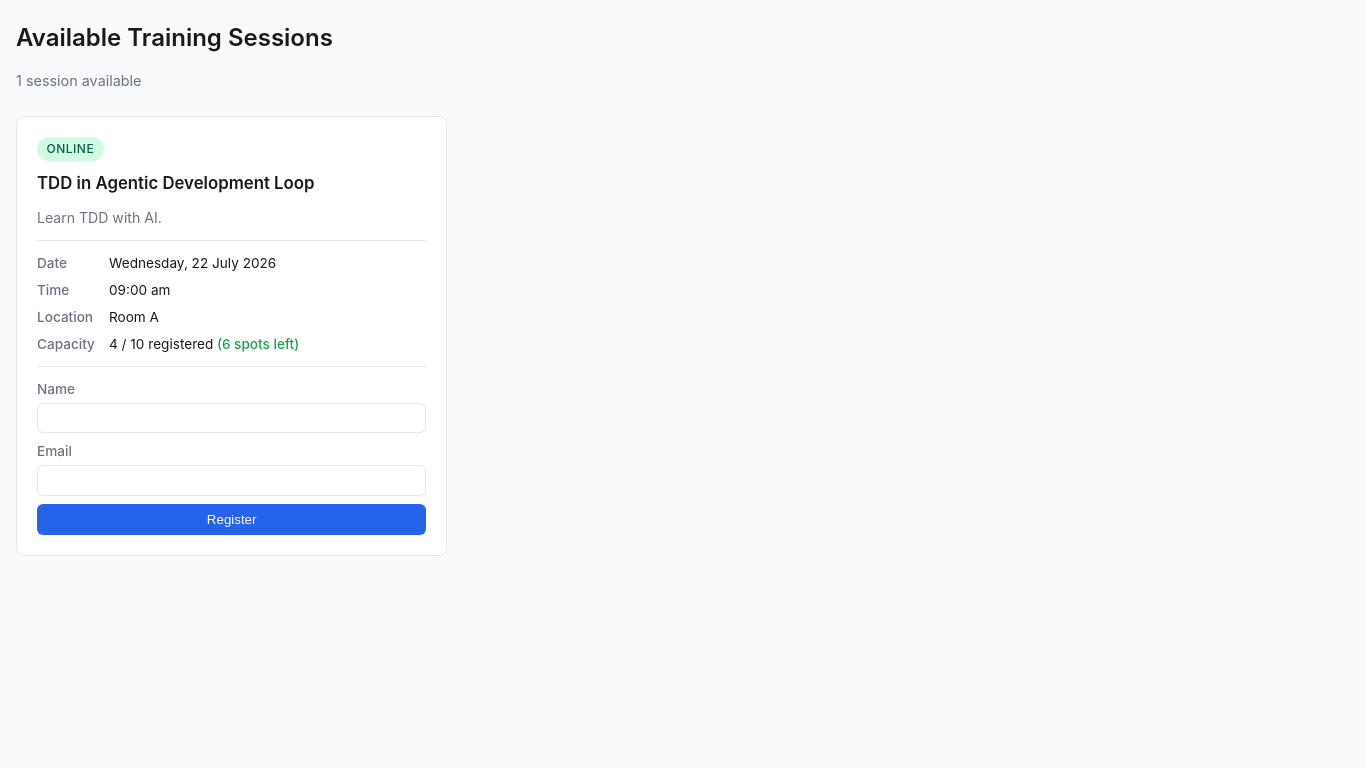
TrainingSessionsPage registration › posts the registration and updates the registered count from the response
The width and height of the screenshot is (1366, 768).
Check: the link "TDD in Agentic Development Loop" is shown, box left=37, top=173, right=314, bottom=193
Type "Ada Lovelace" into the field labelled "Name".
click(232, 418); type("Ada Lovelace")  # box left=37, top=402, right=426, bottom=433
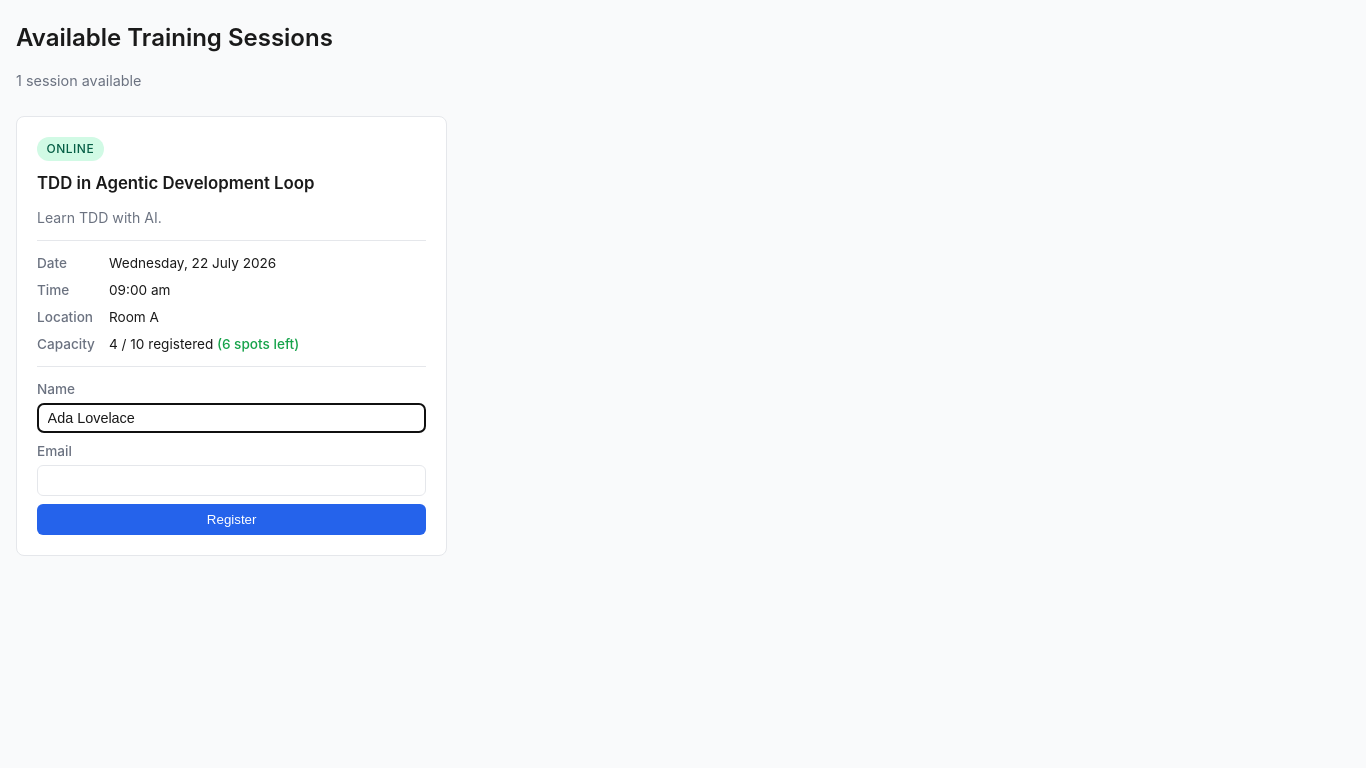
Type "ada@example.com" into the field labelled "Email".
click(232, 480); type("ada@example.com")  # box left=37, top=465, right=426, bottom=496
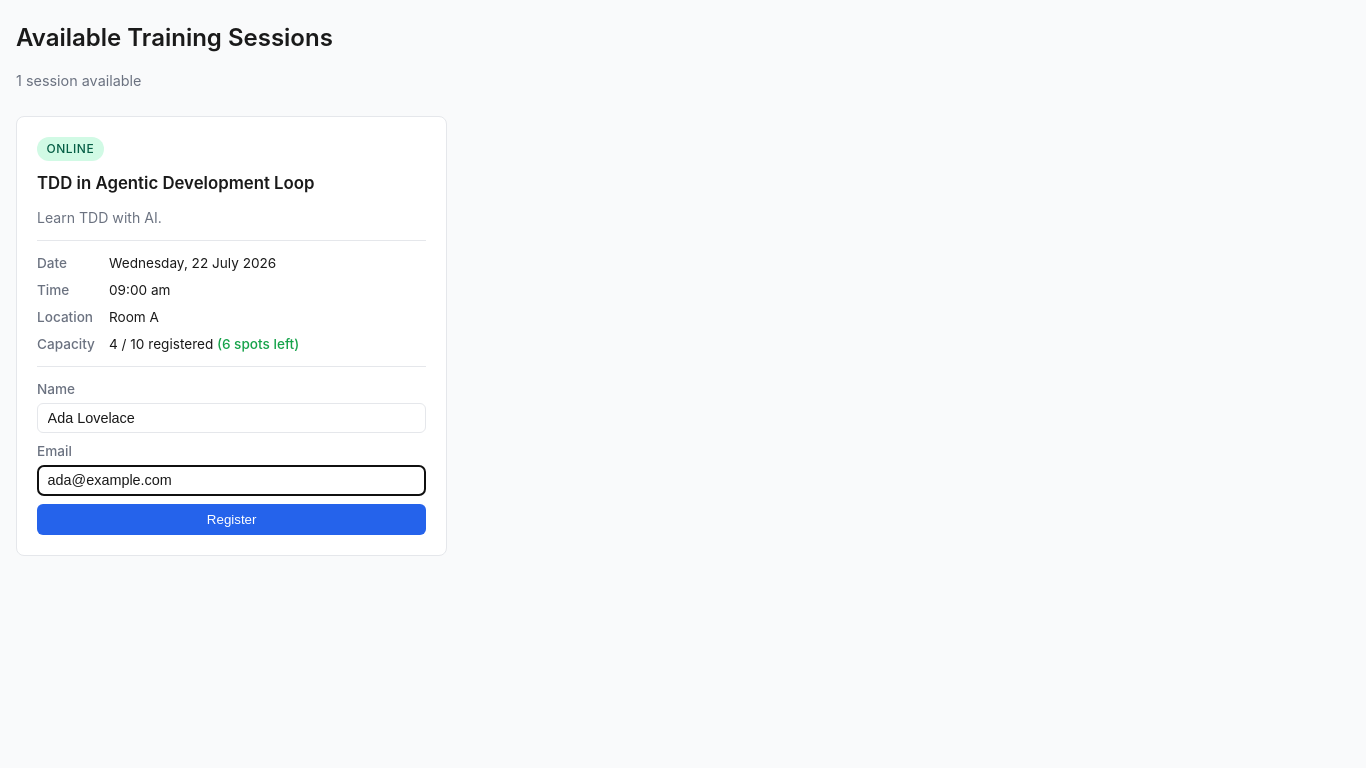
Click the button "Register".
click(232, 519)  # box left=37, top=504, right=426, bottom=535
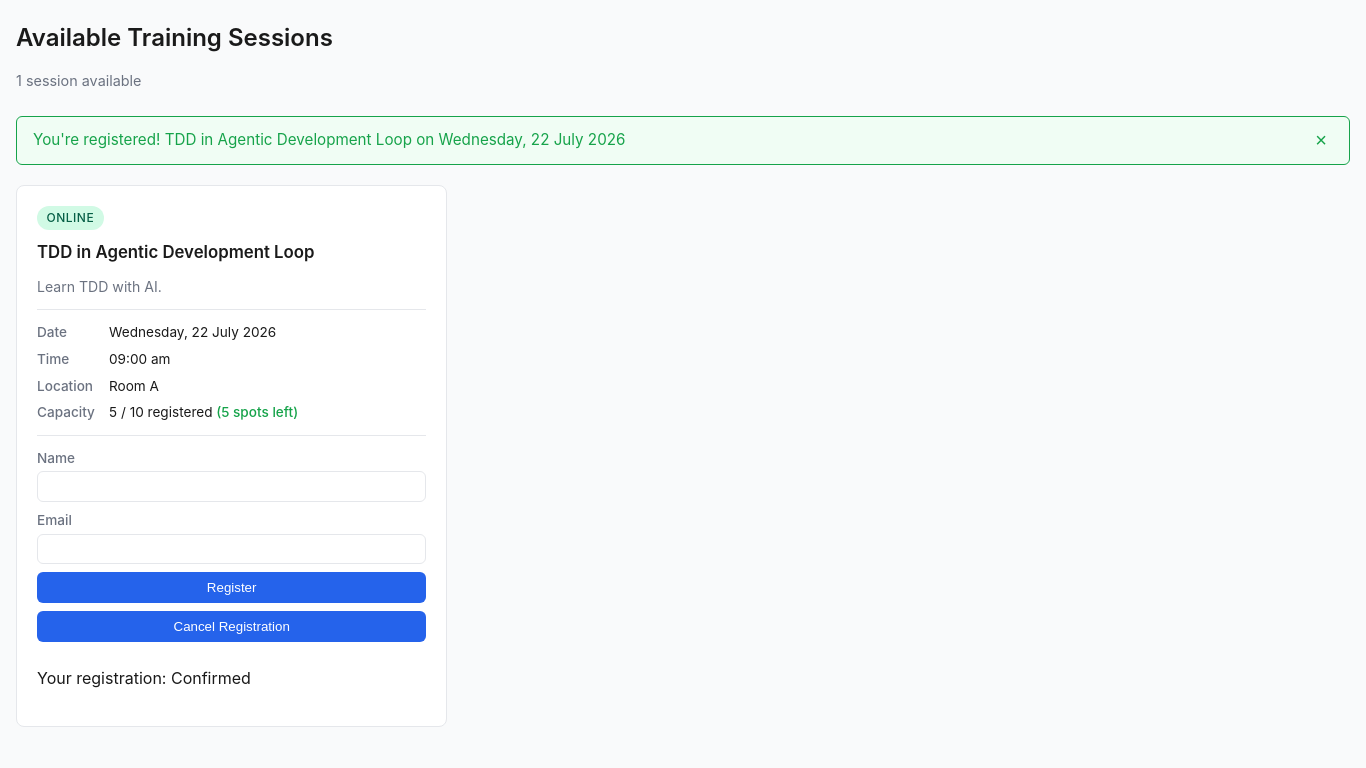
Check: the text "5 / 10 registered (5 spots left)" is shown, box left=109, top=402, right=298, bottom=423
Check: the text "Your registration: Confirmed" is shown, box left=37, top=668, right=251, bottom=688
